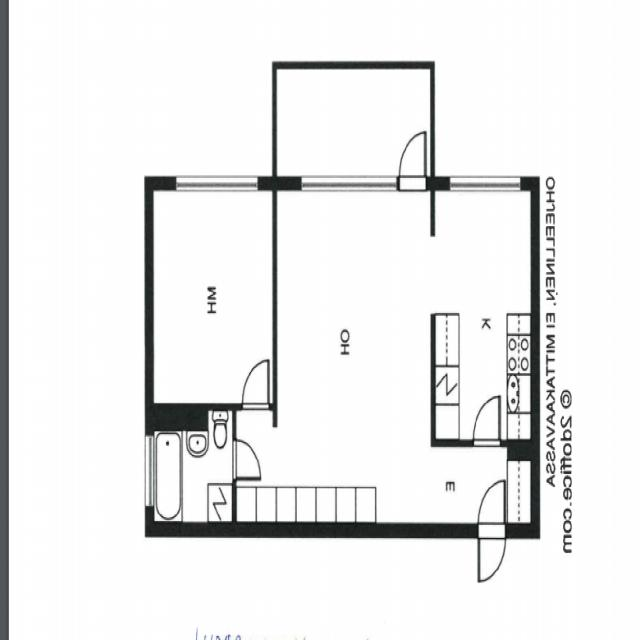door: (479, 480, 506, 538), (479, 523, 506, 581), (400, 133, 426, 190), (242, 360, 270, 411), (474, 396, 500, 447), (232, 440, 261, 478)
